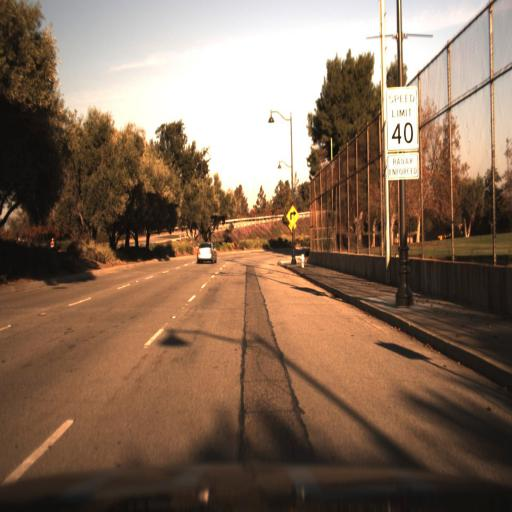car: (194, 238, 218, 266)
